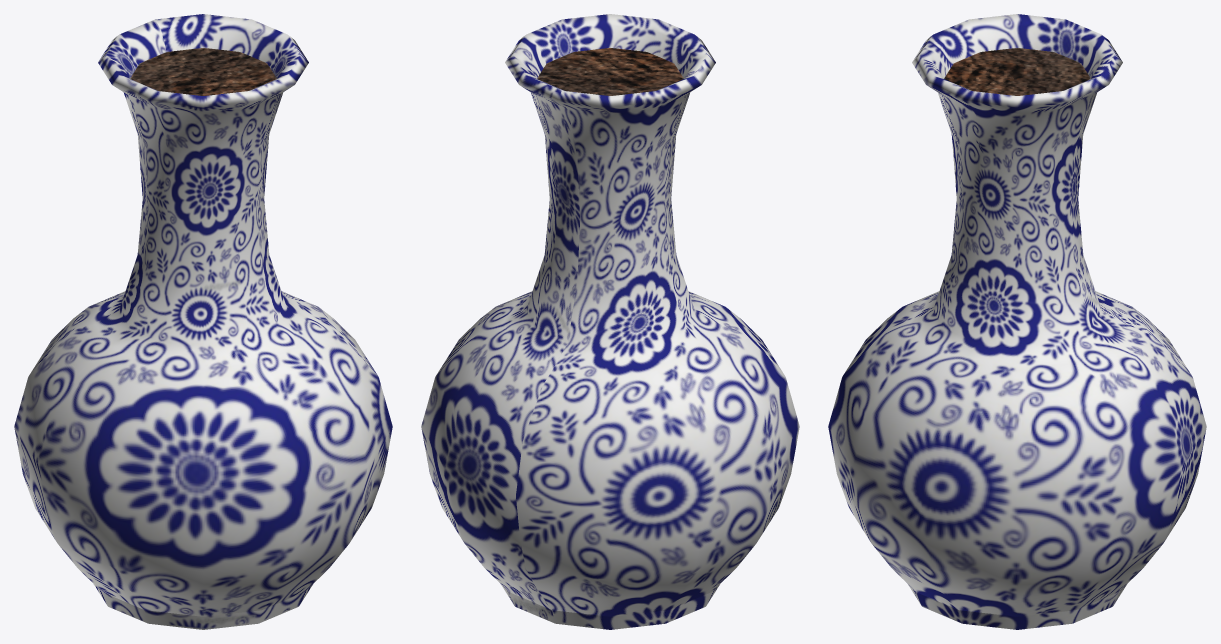
File: Vase.fbx
The picture shows the model from 3 angles, left to right: view 1: azimuth 30°, elevation 25°; view 2: azimuth 150°, elevation 25°; view 3: azimuth 270°, elevation 25°; orthographic projection.
Parts seen in each view (by area): view 1: pCylinder1; view 2: pCylinder1; view 3: pCylinder1.
Part boxes in pixels (left/top/right/bottom): pCylinder1: left=14, top=14, right=392, bottom=629; pCylinder1: left=421, top=14, right=799, bottom=629; pCylinder1: left=828, top=14, right=1206, bottom=629.
Bounding box in the file's own units: 42.82 × 65.94 × 42.82.
